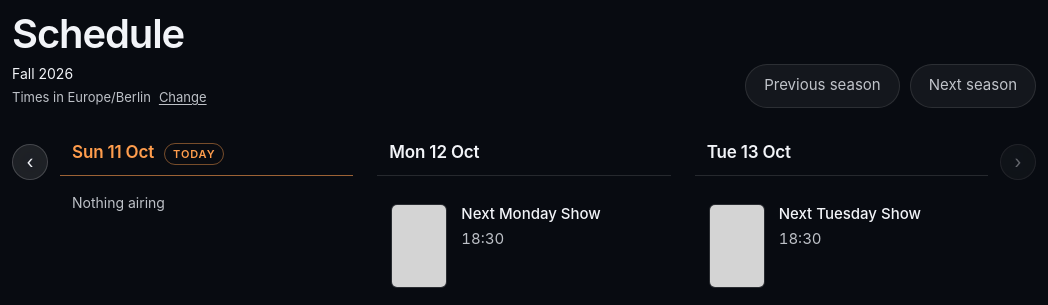
Test: Schedule › on a Sunday, shows next Monday and Tuesday as tomorrow and the day after
The image size is (1048, 305).
Expected: the text "Fall 2026" is shown, [12,65,73,82]
Expected: the text "Next Monday Show" is shown, [461,204,601,223]
Click the button named "Previous day" at (30, 162), box [12,144,48,180]
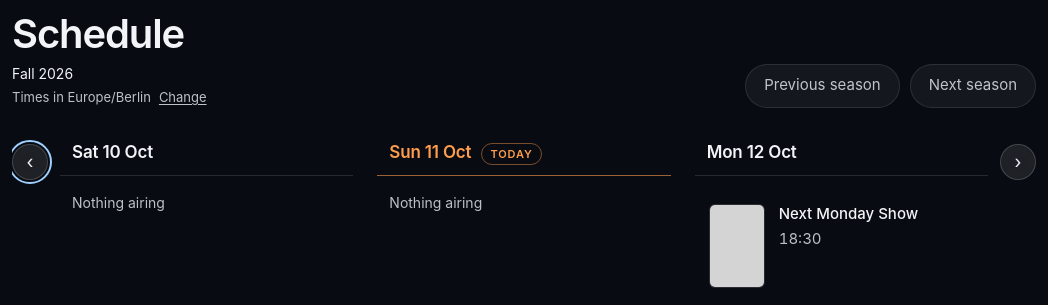
Click the button named "Previous day" at (30, 162), box [12,144,48,180]
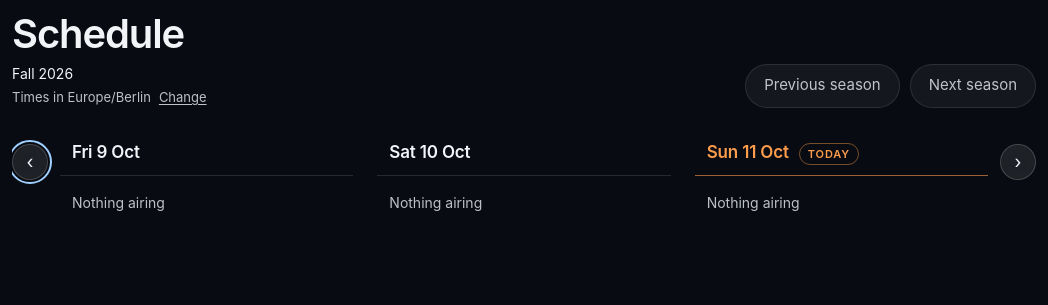
Click the button named "Previous day" at (30, 162), box [12,144,48,180]
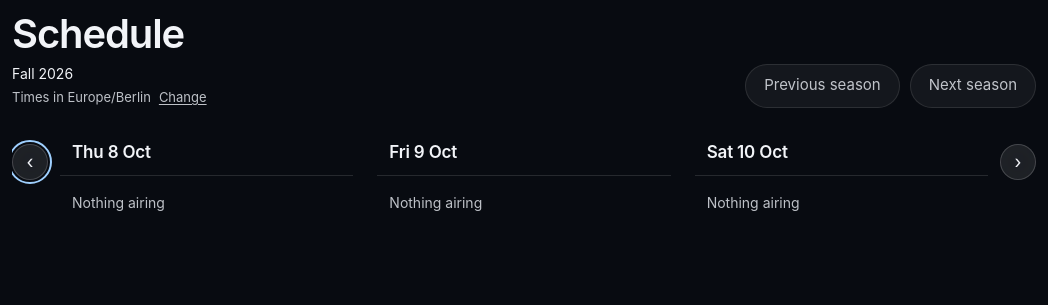
Click the button named "Previous day" at (30, 162), box [12,144,48,180]
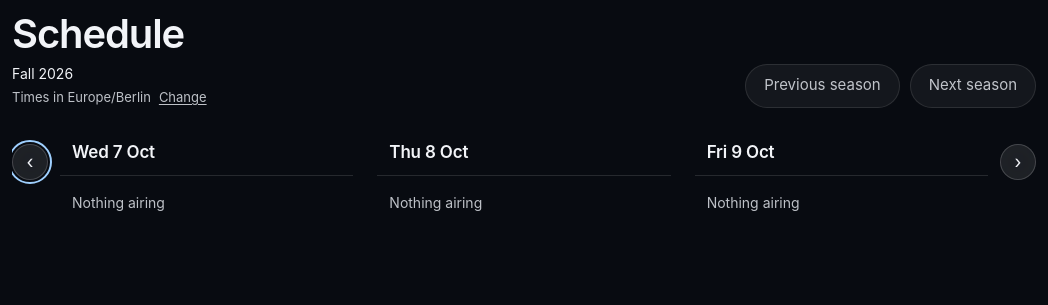
Click the button named "Previous day" at (30, 162), box [12,144,48,180]
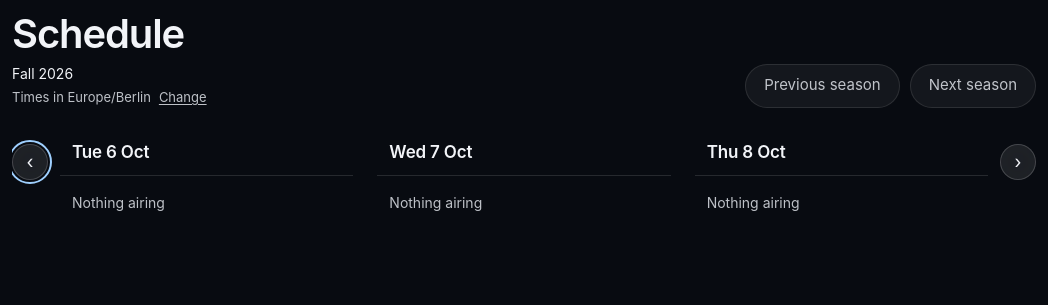
Click the button named "Previous day" at (30, 162), box [12,144,48,180]
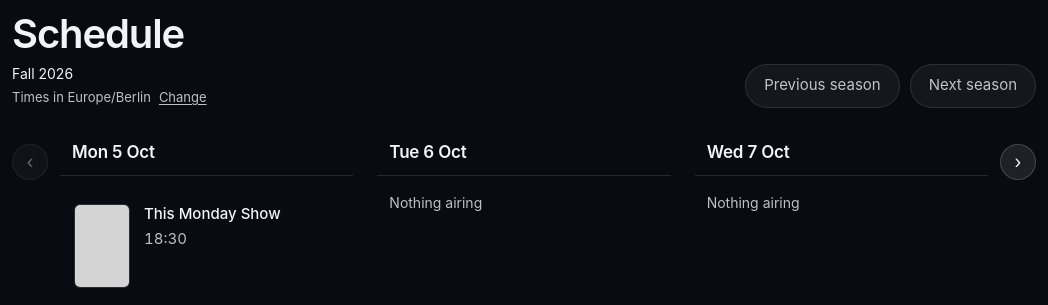
Now the text "This Monday Show" is shown, box [144,204,281,223]
Now the button named "Previous day" is disabled, box [12,144,48,180]
